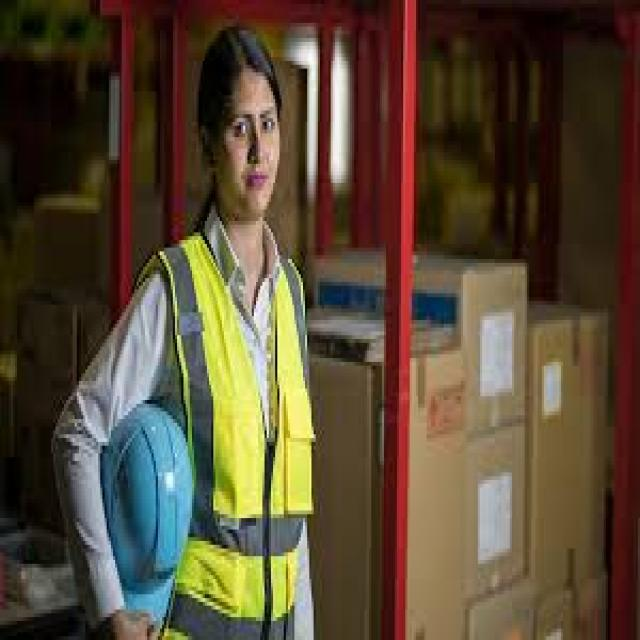Reflective-Jacket: (135, 218, 322, 632)
Safety-Helmet: (99, 395, 194, 625)
